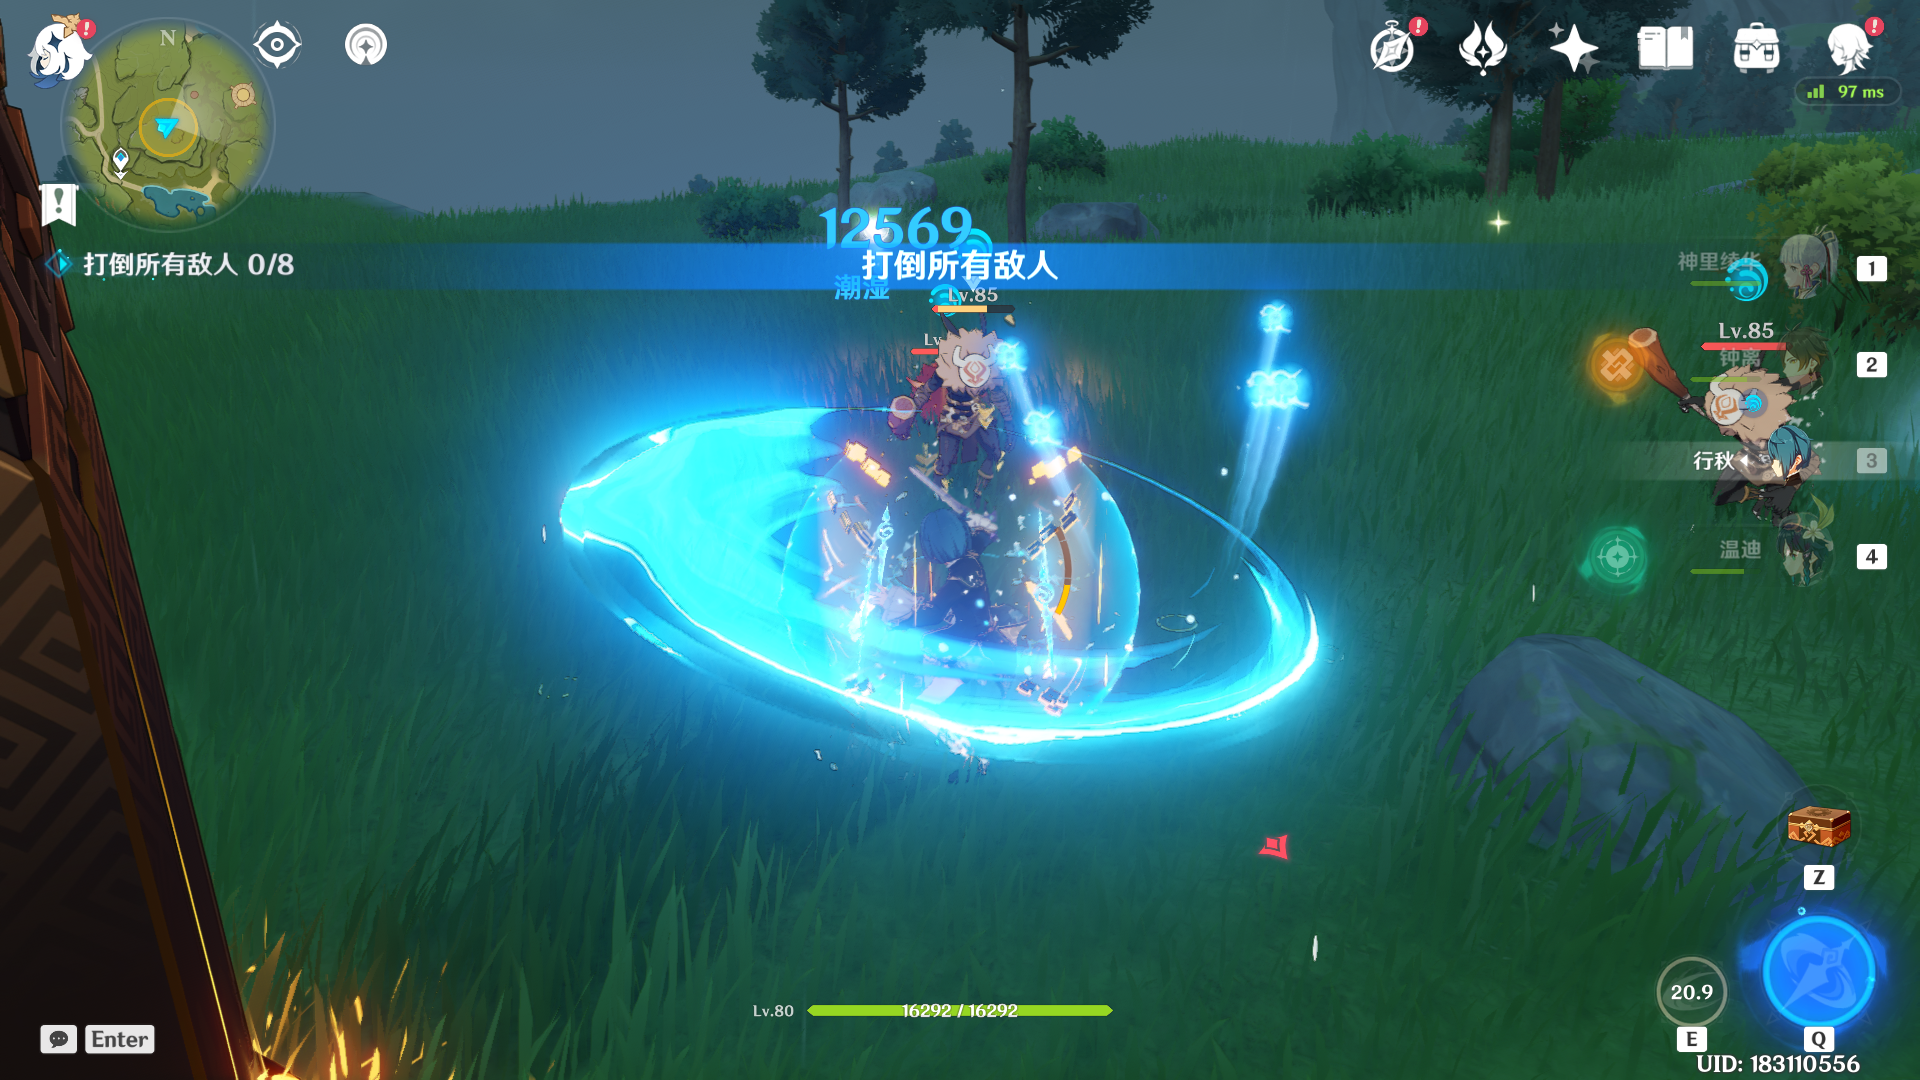character: (833, 485, 1079, 831), (872, 295, 1095, 530)
